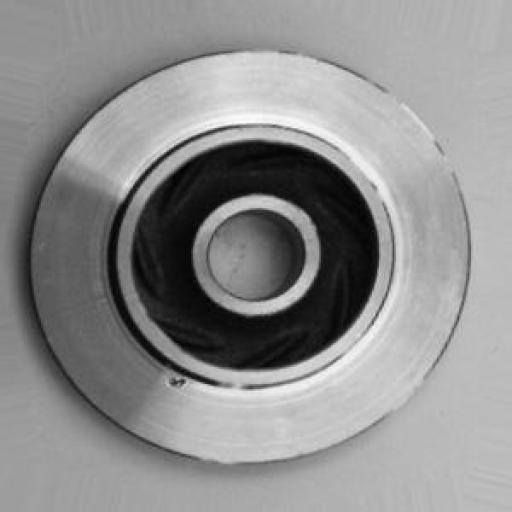defect: (154, 354, 224, 417)
